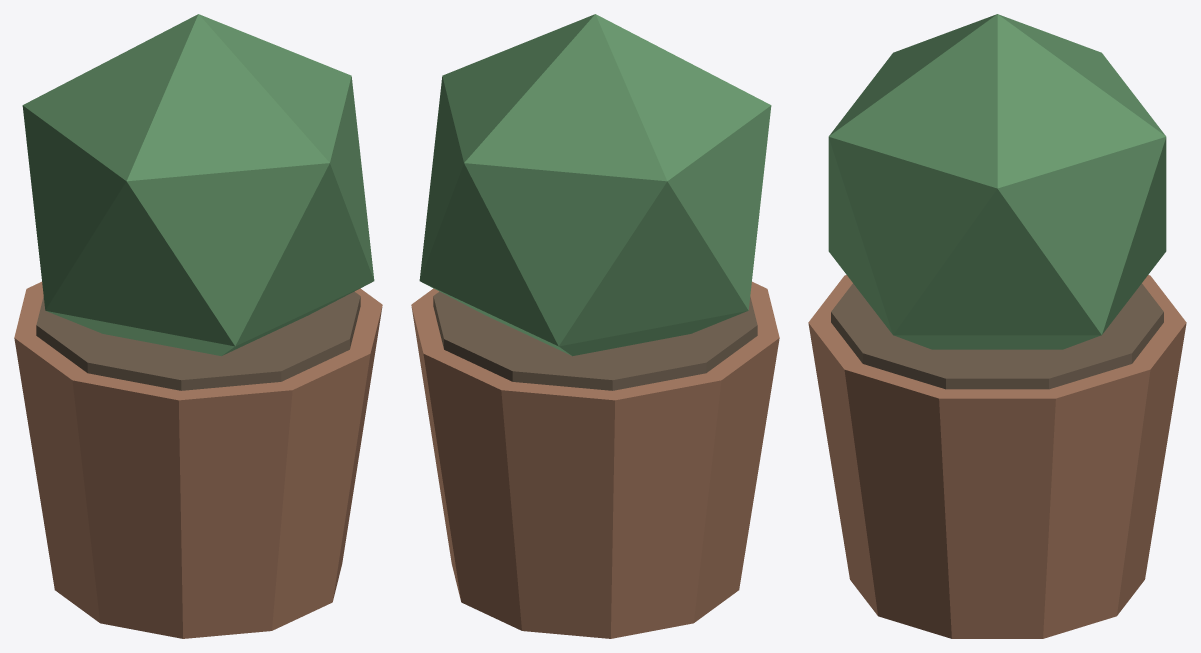
File: pla_vaso_m1.glb
3 renders of one model, left to right at view 1: azimuth 30°, elevation 25°; view 2: azimuth 150°, elevation 25°; view 3: azimuth 270°, elevation 25°, orthographic.
Visible parts, largest first — view 1: PLA_VASO_M1_v01; view 2: PLA_VASO_M1_v01; view 3: PLA_VASO_M1_v01.
Boxes of the visible parts, x1=… form: PLA_VASO_M1_v01: x1=14, y1=14, x2=382, y2=638; PLA_VASO_M1_v01: x1=411, y1=14, x2=779, y2=638; PLA_VASO_M1_v01: x1=808, y1=14, x2=1186, y2=638.
Size of the model in its own units: 0.3043 by 0.528 by 0.32.
